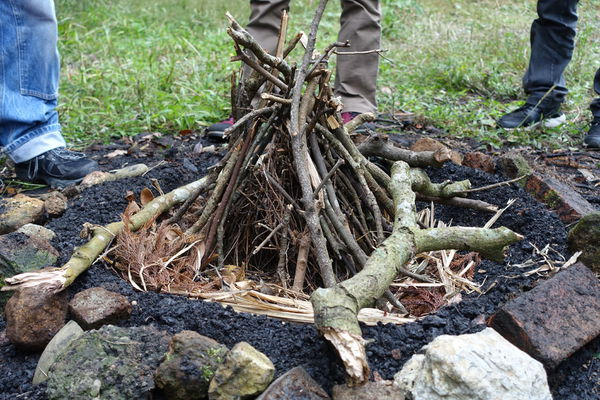wood_together: (178, 48, 446, 301)
